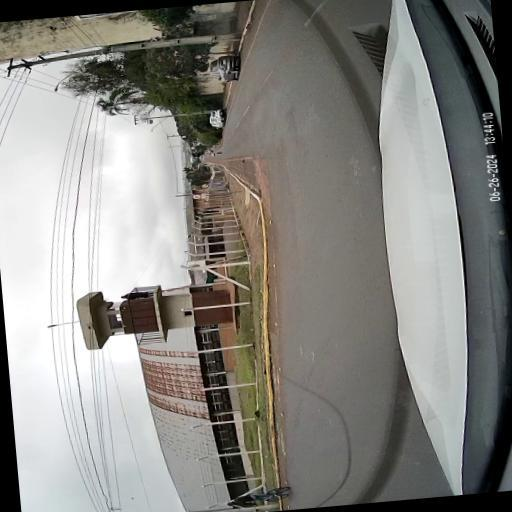R-19: (192, 193, 200, 199)
